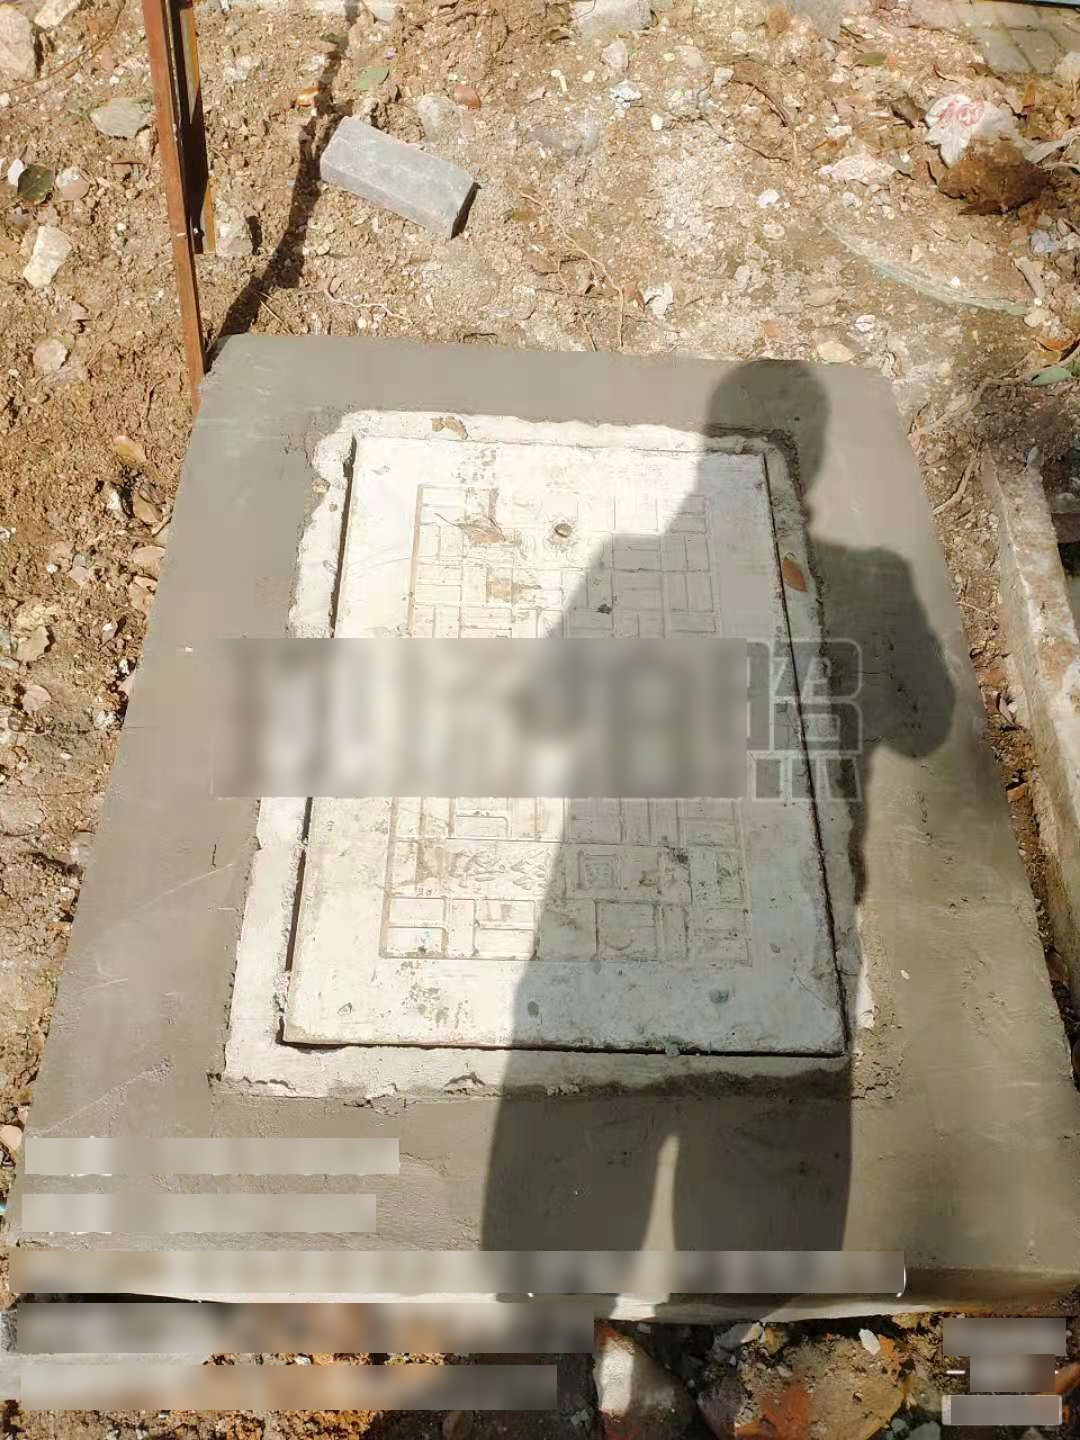good: (225, 409, 878, 1091)
